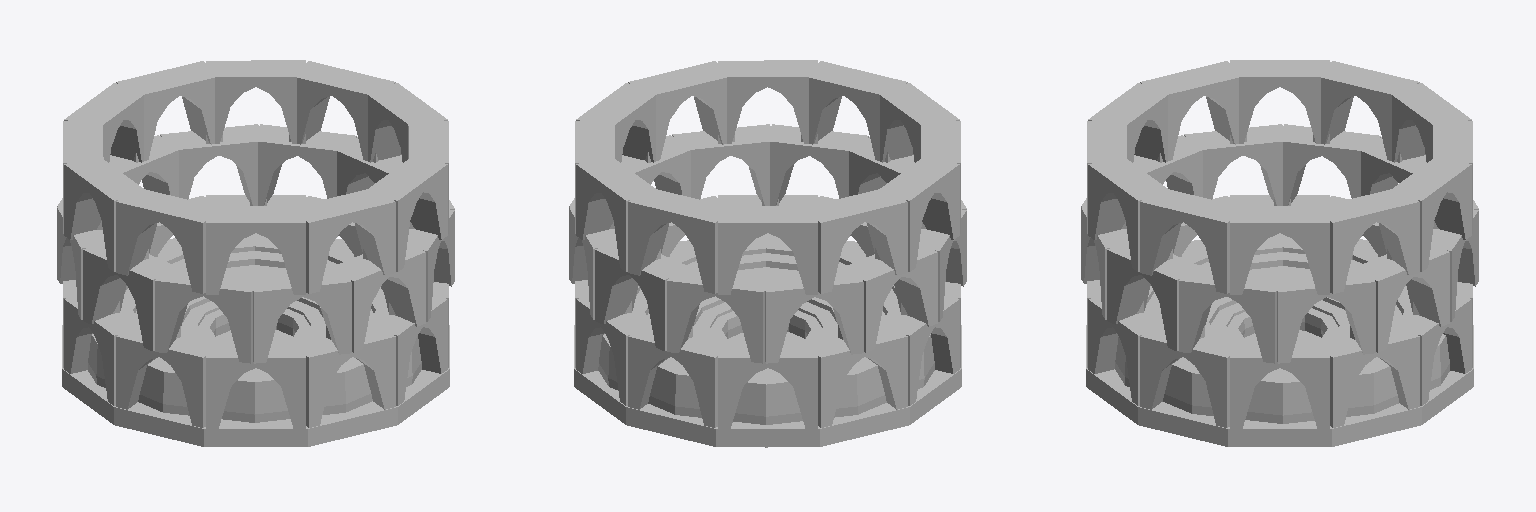
File: Colloseum.obj
3 renders of one model, left to right at view 1: azimuth 30°, elevation 25°; view 2: azimuth 150°, elevation 25°; view 3: azimuth 270°, elevation 25°, orthographic.
Visible parts, largest first — view 1: Torus.001; view 2: Torus.001; view 3: Torus.001.
Boxes of the visible parts, <box> form: Torus.001: <box>57,60,454,446</box>; Torus.001: <box>569,60,966,447</box>; Torus.001: <box>1081,60,1478,446</box>.
Bounding box in the file's own units: 19.85 × 12.55 × 19.85.